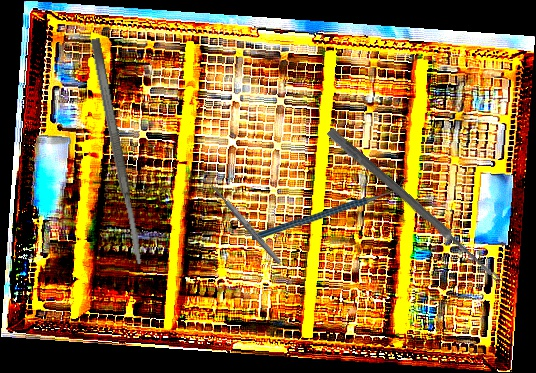Chopper: (252, 174, 406, 243)
Spatula Surgical: (88, 37, 146, 266)
Surgical Spoon: (325, 127, 505, 286), (202, 174, 283, 266)
